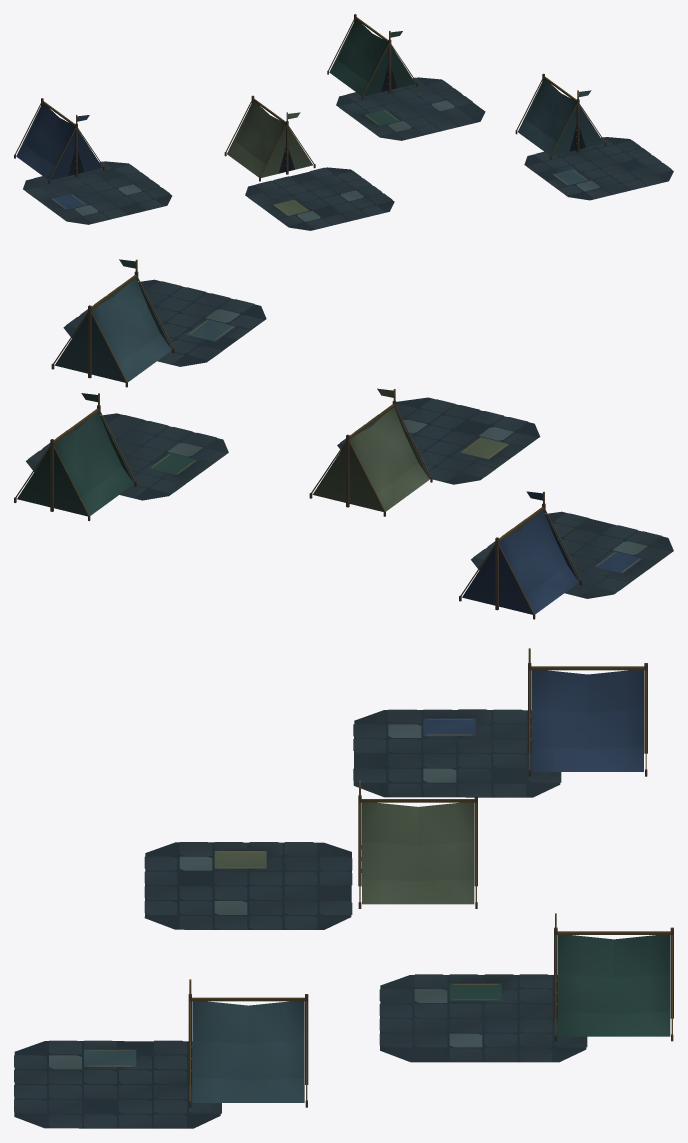
Rendered from moonveil-oath-camp-v1.glb.
3 views of the same model, one above another, from view 1: azimuth 30°, elevation 25°; view 2: azimuth 150°, elevation 25°; view 3: azimuth 270°, elevation 25° (orthographic). The views are drawn at different scales.
Parts seen in each view (by area): view 1: GB_OATH_FLOOR, GB_OATH_RANGER, GB_OATH_SCOUT, GB_OATH_HEALER, GB_OATH_MAGE; view 2: GB_OATH_FLOOR, GB_OATH_HEALER, GB_OATH_SCOUT, GB_OATH_MAGE, GB_OATH_RANGER; view 3: GB_OATH_FLOOR, GB_OATH_SCOUT, GB_OATH_MAGE, GB_OATH_HEALER, GB_OATH_RANGER.
Boxes of the visible parts, x1,y1,x2,y2 form: GB_OATH_FLOOR: (23,77,673,230); GB_OATH_RANGER: (327,14,417,99); GB_OATH_SCOUT: (515,73,606,159); GB_OATH_HEALER: (224,95,315,181); GB_OATH_MAGE: (14,98,104,183); GB_OATH_FLOOR: (26,279,673,598); GB_OATH_HEALER: (309,388,432,516); GB_OATH_SCOUT: (51,259,174,387); GB_OATH_MAGE: (459,491,581,619); GB_OATH_RANGER: (14,393,136,520); GB_OATH_FLOOR: (14,709,587,1128); GB_OATH_SCOUT: (188,979,308,1107); GB_OATH_MAGE: (528,648,647,776); GB_OATH_HEALER: (358,780,477,908); GB_OATH_RANGER: (554,913,673,1041).
Bounding box in the file's own units: 37.96 × 4.44 × 25.28.
